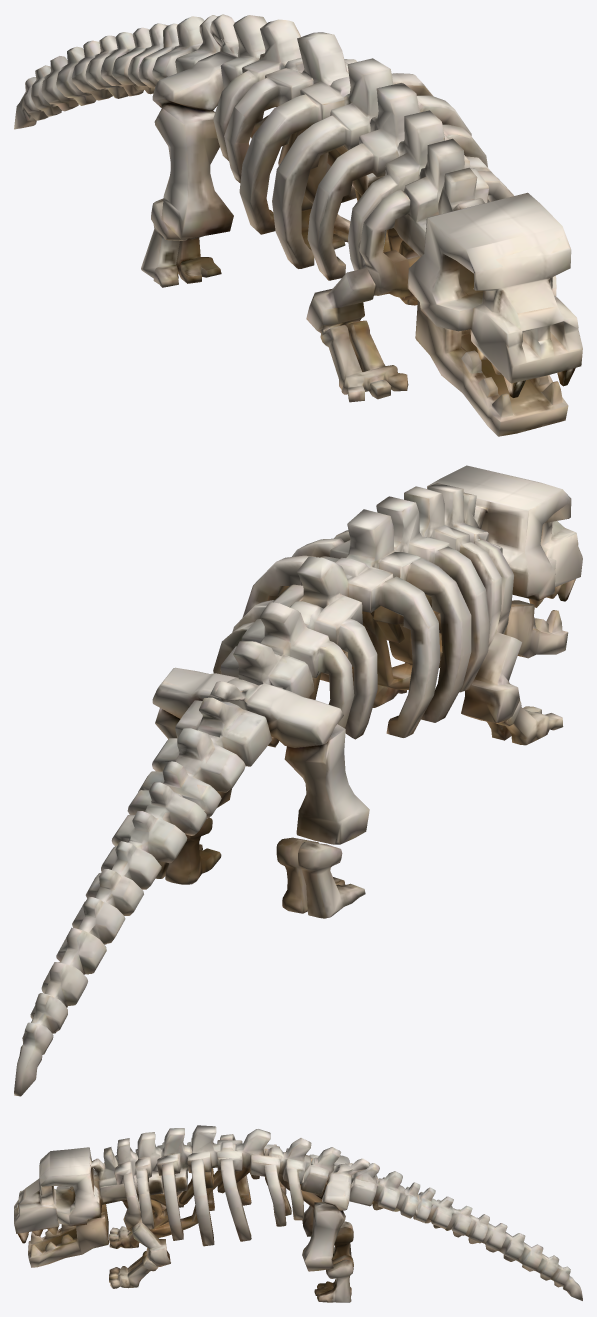
The model's file is ribs.glb.
The picture shows the model from 3 angles, top to bottom: view 1: azimuth 30°, elevation 25°; view 2: azimuth 150°, elevation 25°; view 3: azimuth 270°, elevation 25°; orthographic projection. The views are drawn at different scales.
Parts seen in each view (by area): view 1: node_0; view 2: node_0; view 3: node_0.
Boxes of the visible parts, left/top/right/bottom form: node_0: left=14, top=14, right=582, bottom=436; node_0: left=14, top=465, right=582, bottom=1096; node_0: left=14, top=1125, right=582, bottom=1302.
Size of the model in its own units: 0.2655 by 0.3796 by 1.14.
1 material, 1 textured.
